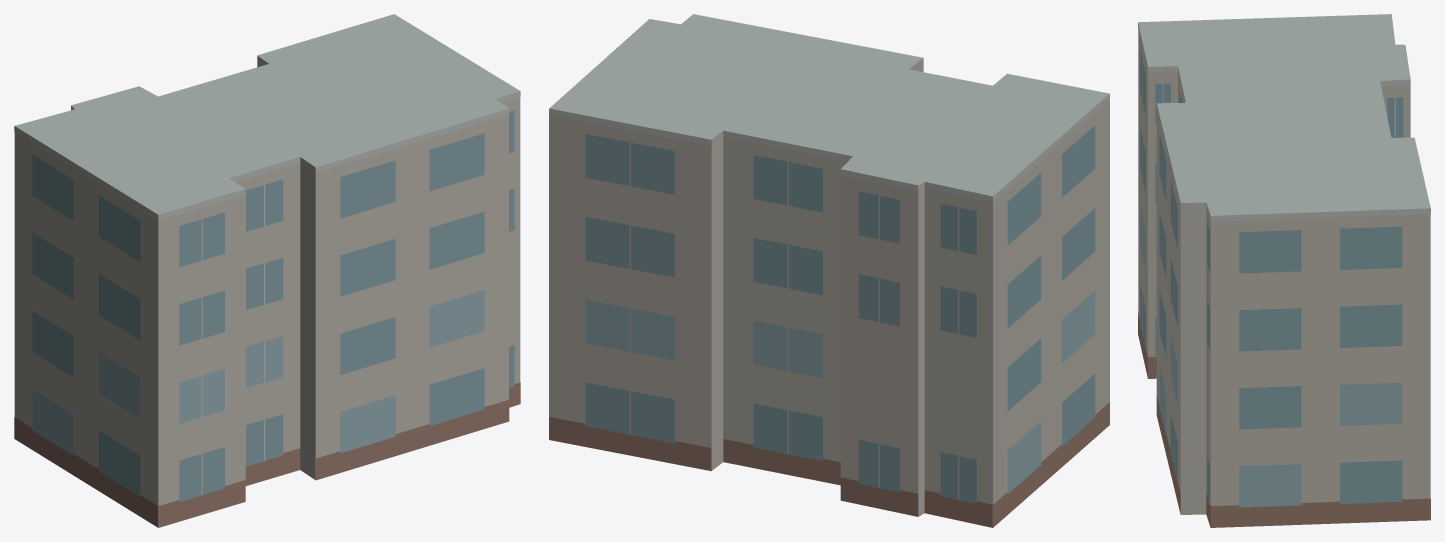
Rendered from survey-upis-32934540.glb.
3 views of the same model, side by side, from view 1: azimuth 30°, elevation 25°; view 2: azimuth 150°, elevation 25°; view 3: azimuth 270°, elevation 25° (orthographic). The views are drawn at different scales.
Visible parts, largest first — view 1: survey-upis-32934540.tmp; view 2: survey-upis-32934540.tmp; view 3: survey-upis-32934540.tmp.
Boxes of the visible parts, x1=… form: survey-upis-32934540.tmp: x1=14, y1=14, x2=520, y2=527; survey-upis-32934540.tmp: x1=549, y1=14, x2=1109, y2=527; survey-upis-32934540.tmp: x1=1138, y1=14, x2=1430, y2=527.
Bounding box in the file's own units: 17.78 × 12.8 × 10.89.
